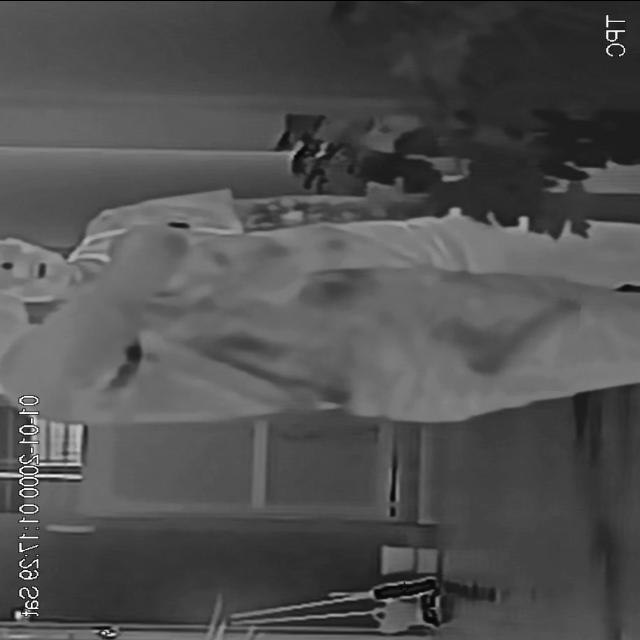Weapon: (428, 282, 580, 388)
